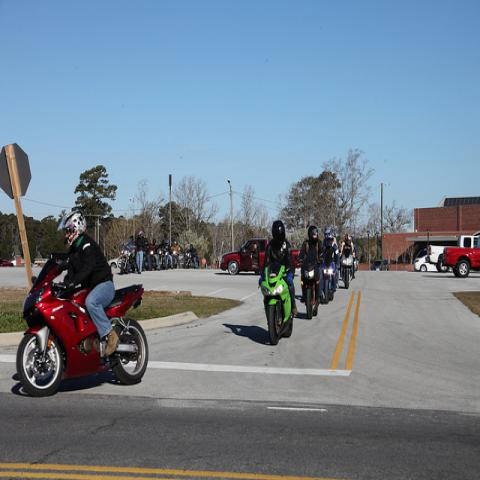car: (414, 253, 438, 272), (370, 258, 390, 272), (108, 254, 122, 268), (414, 248, 427, 262)
motorcycle: (16, 254, 148, 396), (259, 255, 296, 347), (296, 260, 324, 320), (321, 262, 338, 304), (338, 250, 356, 288), (120, 238, 136, 275), (183, 248, 199, 269), (157, 248, 164, 268), (150, 247, 156, 270), (173, 249, 177, 270)
truck: (220, 239, 301, 270), (426, 231, 479, 273), (443, 236, 479, 280)
